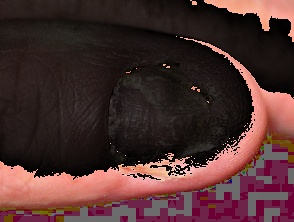Nail_psoriasis: (97, 46, 256, 192)
